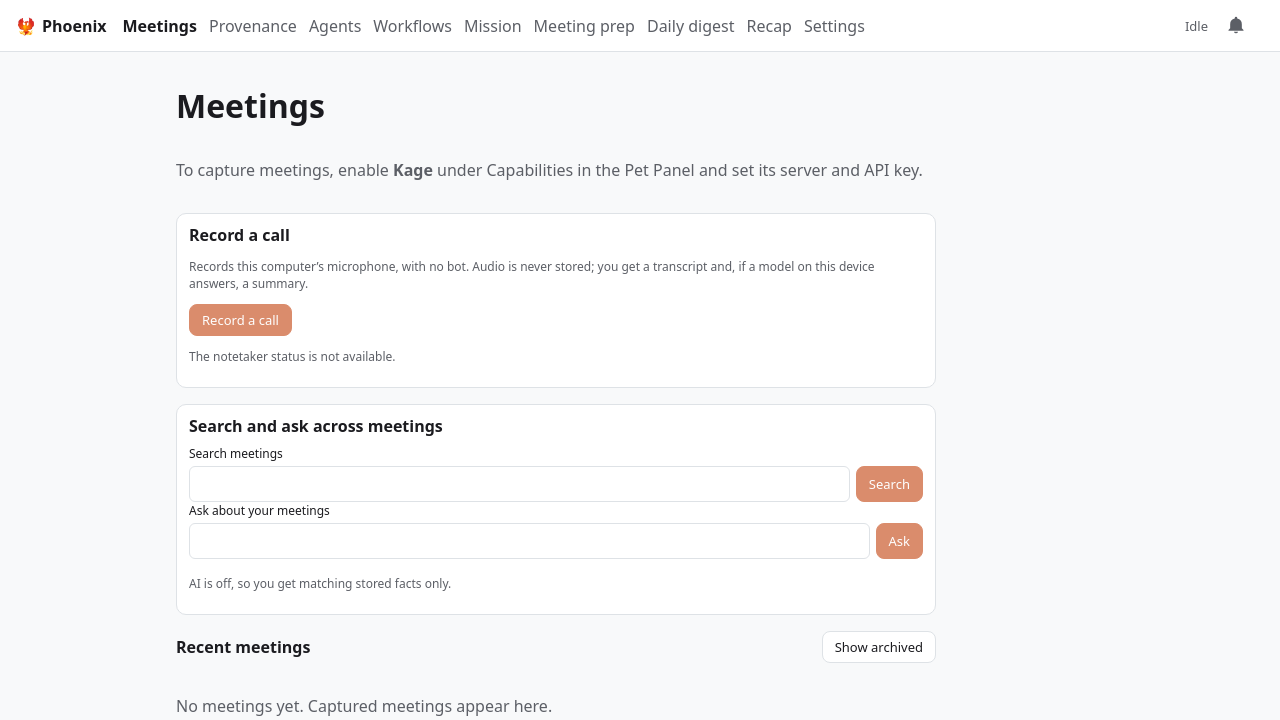
Test: Ask across meetings › labels a generated interpretation as not a stored fact
Type "who writes it?" into the field labelled "Ask about your meetings".
click(529, 541); type("who writes it?")  # box [189,523,870,559]
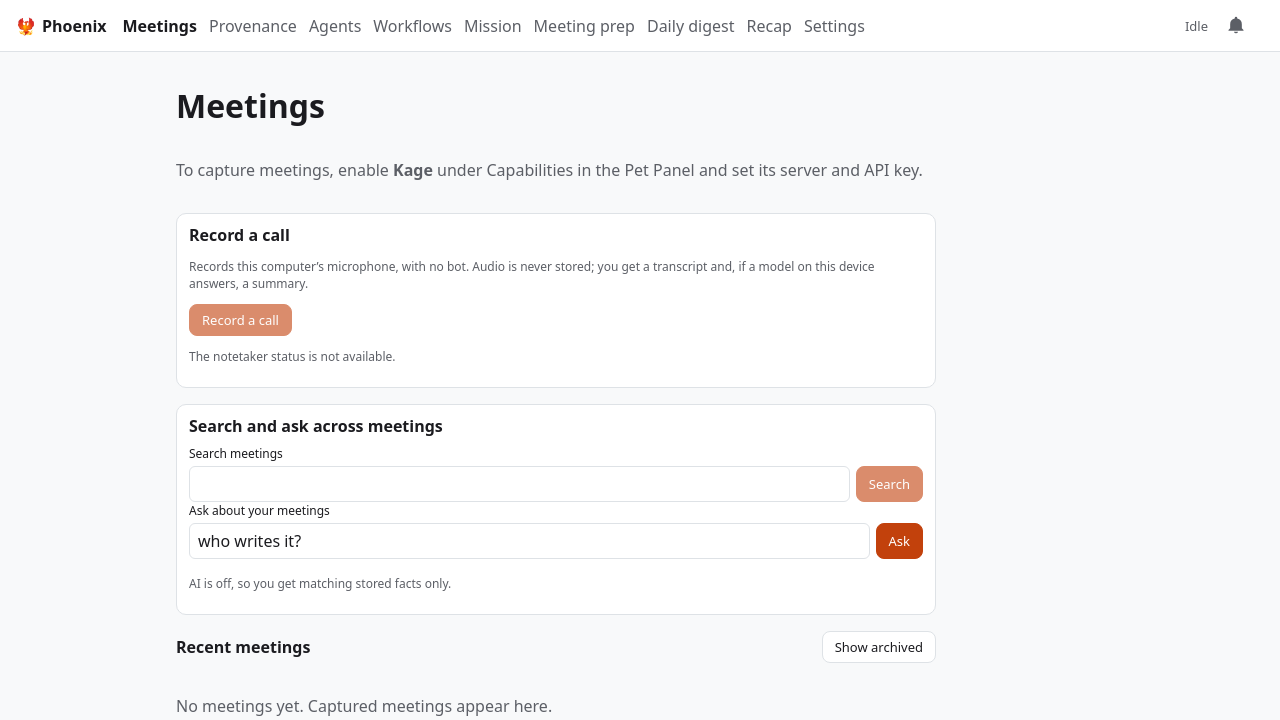
Click the button "Ask".
click(899, 541)  # box [876,523,923,559]
(page scrolled)
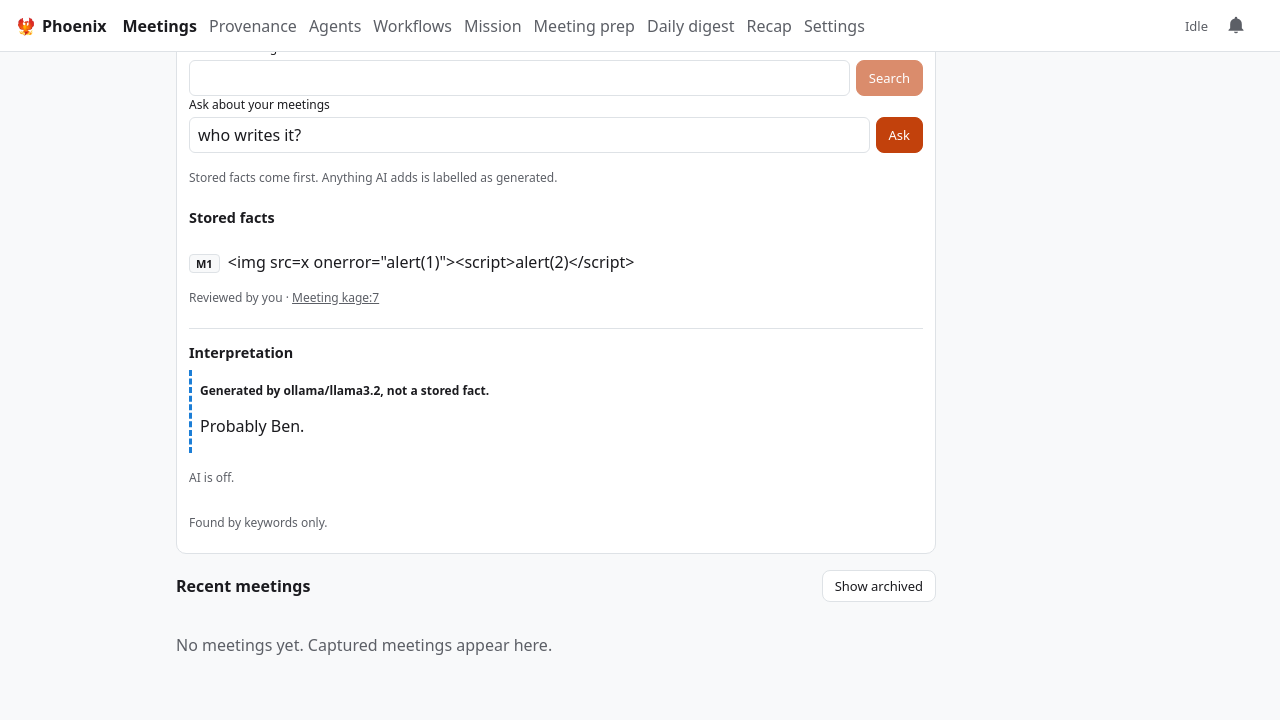
Now the text "Generated by ollama/llama3.2, not a stored fact." is shown, box [200,382,489,399]
Now the text "Probably Ben." is shown, box [200,415,304,437]
